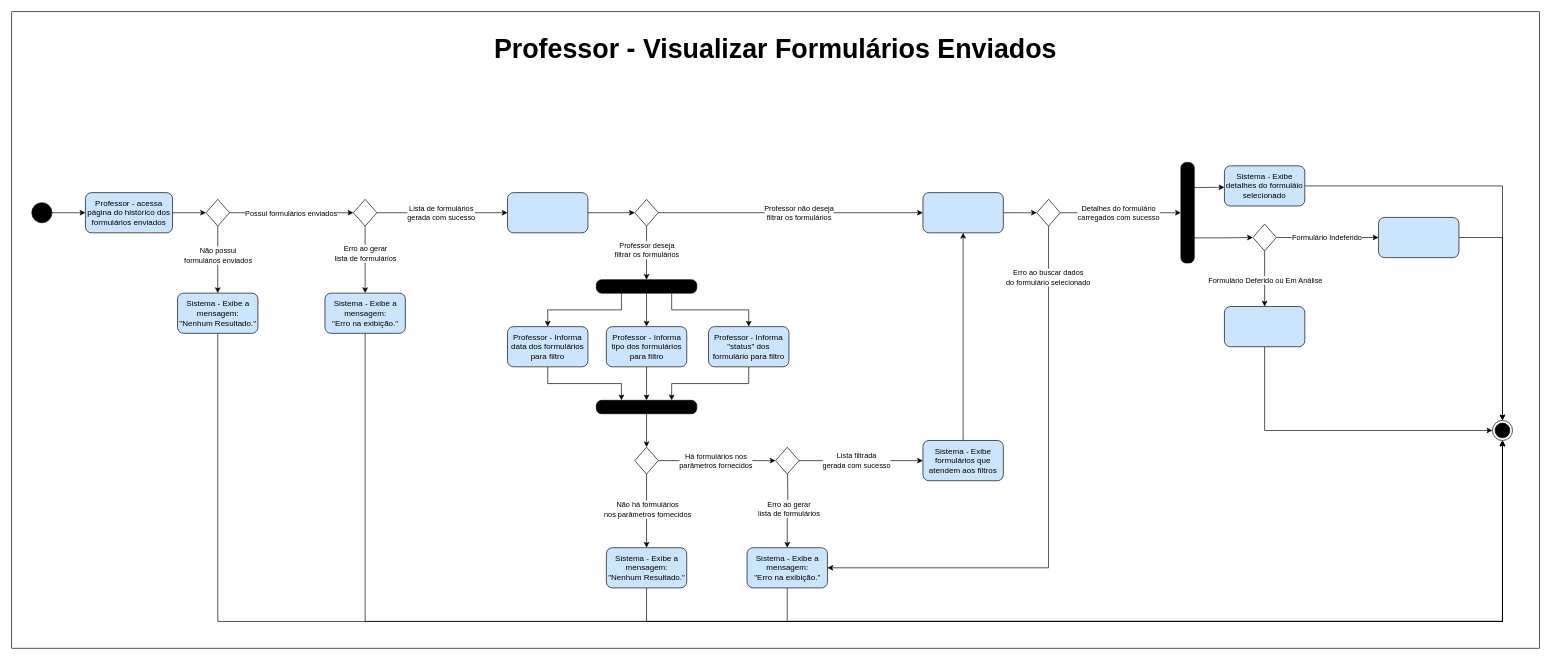
The diagram is 1551 pixels wide and 660 high, and some of its shapes have lost their labels. The shapes that lost their labels are listed below. From the top down, each one's centre as x and y in pixels, then its label:
the point at 547,212: Sistema - Exibe os formulários enviados pelo professor
the point at 962,212: Professor - Solicita a visualização de um formulário específico
the point at 1418,237: Sistema - Exibe feedback do coo
the point at 1264,326: Sistema - Informa que não há mensagens recebidas
